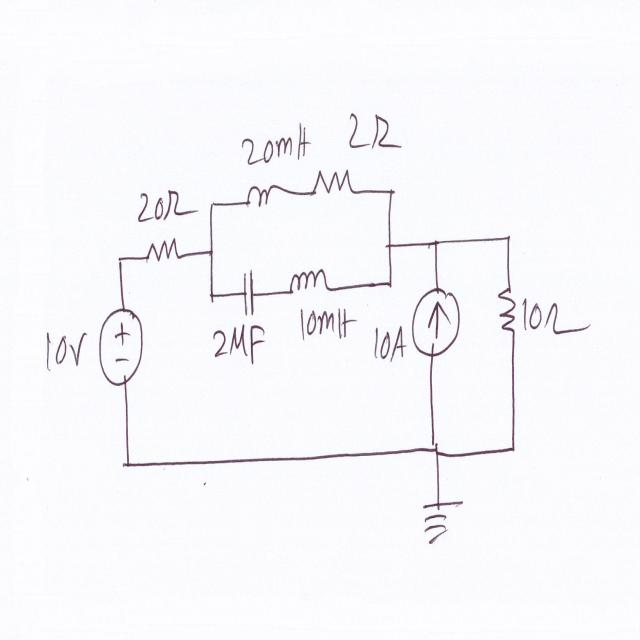capacitor: (237, 261, 261, 322)
current_source: (407, 283, 463, 363)
ground: (419, 494, 466, 548)
inductor: (286, 260, 334, 298), (243, 178, 287, 212)
resistor: (310, 163, 356, 203), (496, 280, 521, 348), (144, 227, 182, 268)
voltage_source: (95, 300, 147, 392)
